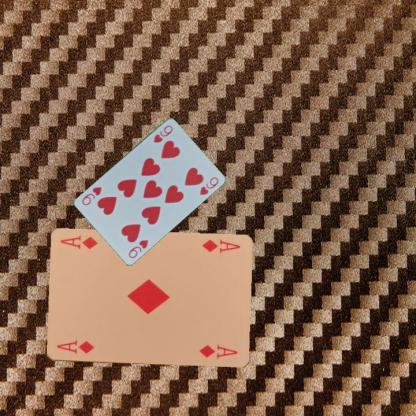9h: (126, 236, 149, 260), (151, 122, 174, 144)
Ad: (199, 237, 242, 255), (54, 338, 95, 356)
